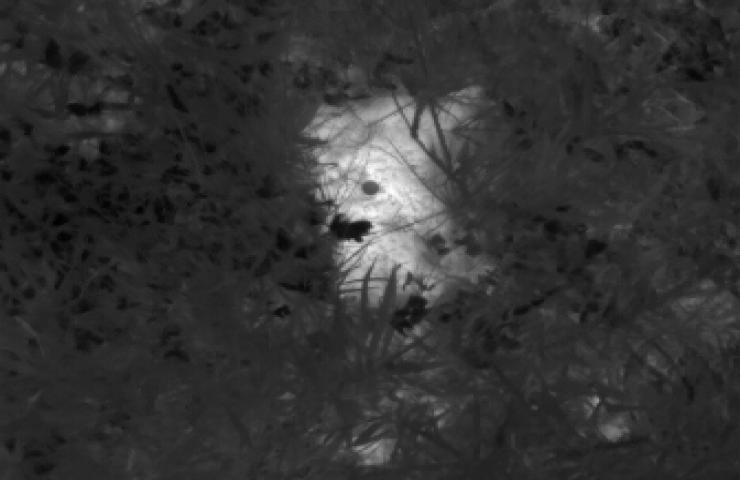landmines: (293, 75, 505, 316)
